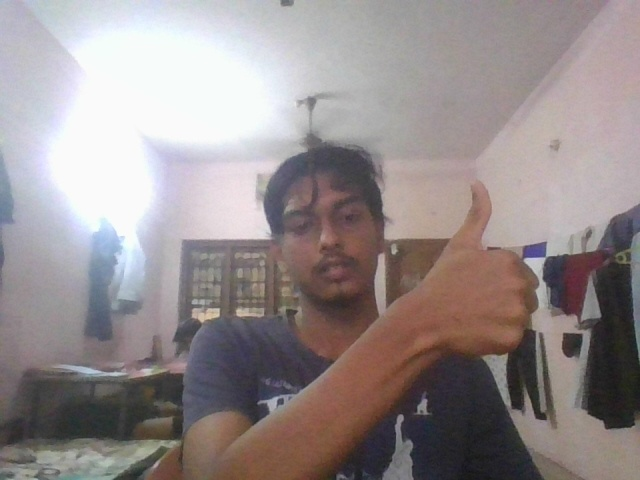thumbsup: (399, 169, 543, 372)
